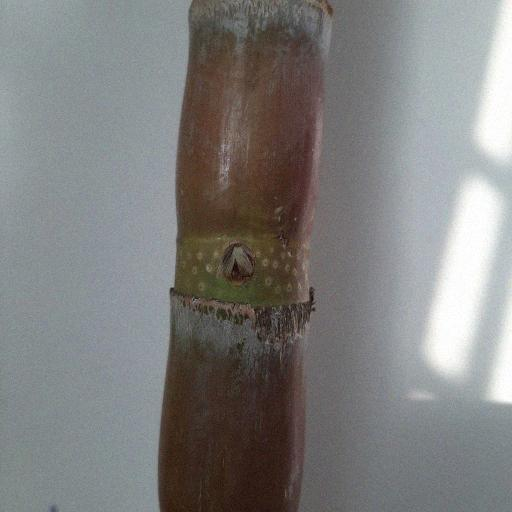Bud: (220, 241, 257, 283)
